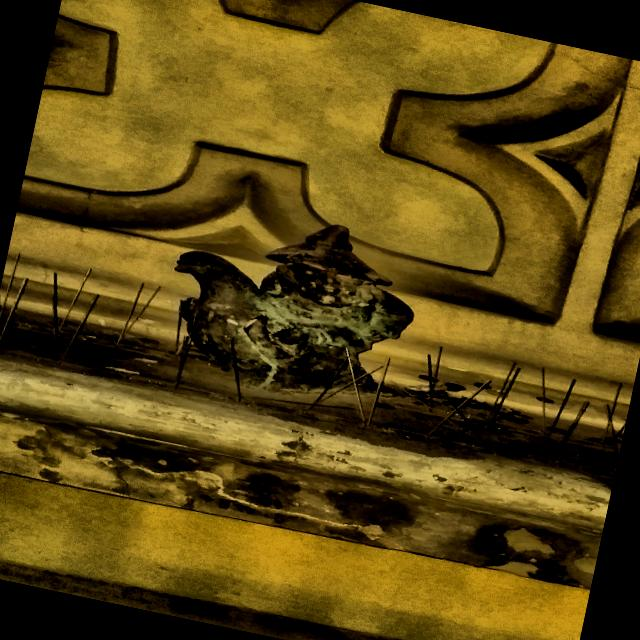Golebnik: (173, 225, 414, 398)
